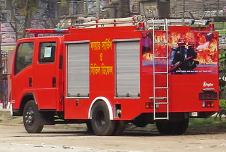Fire truck: (7, 15, 220, 138)
